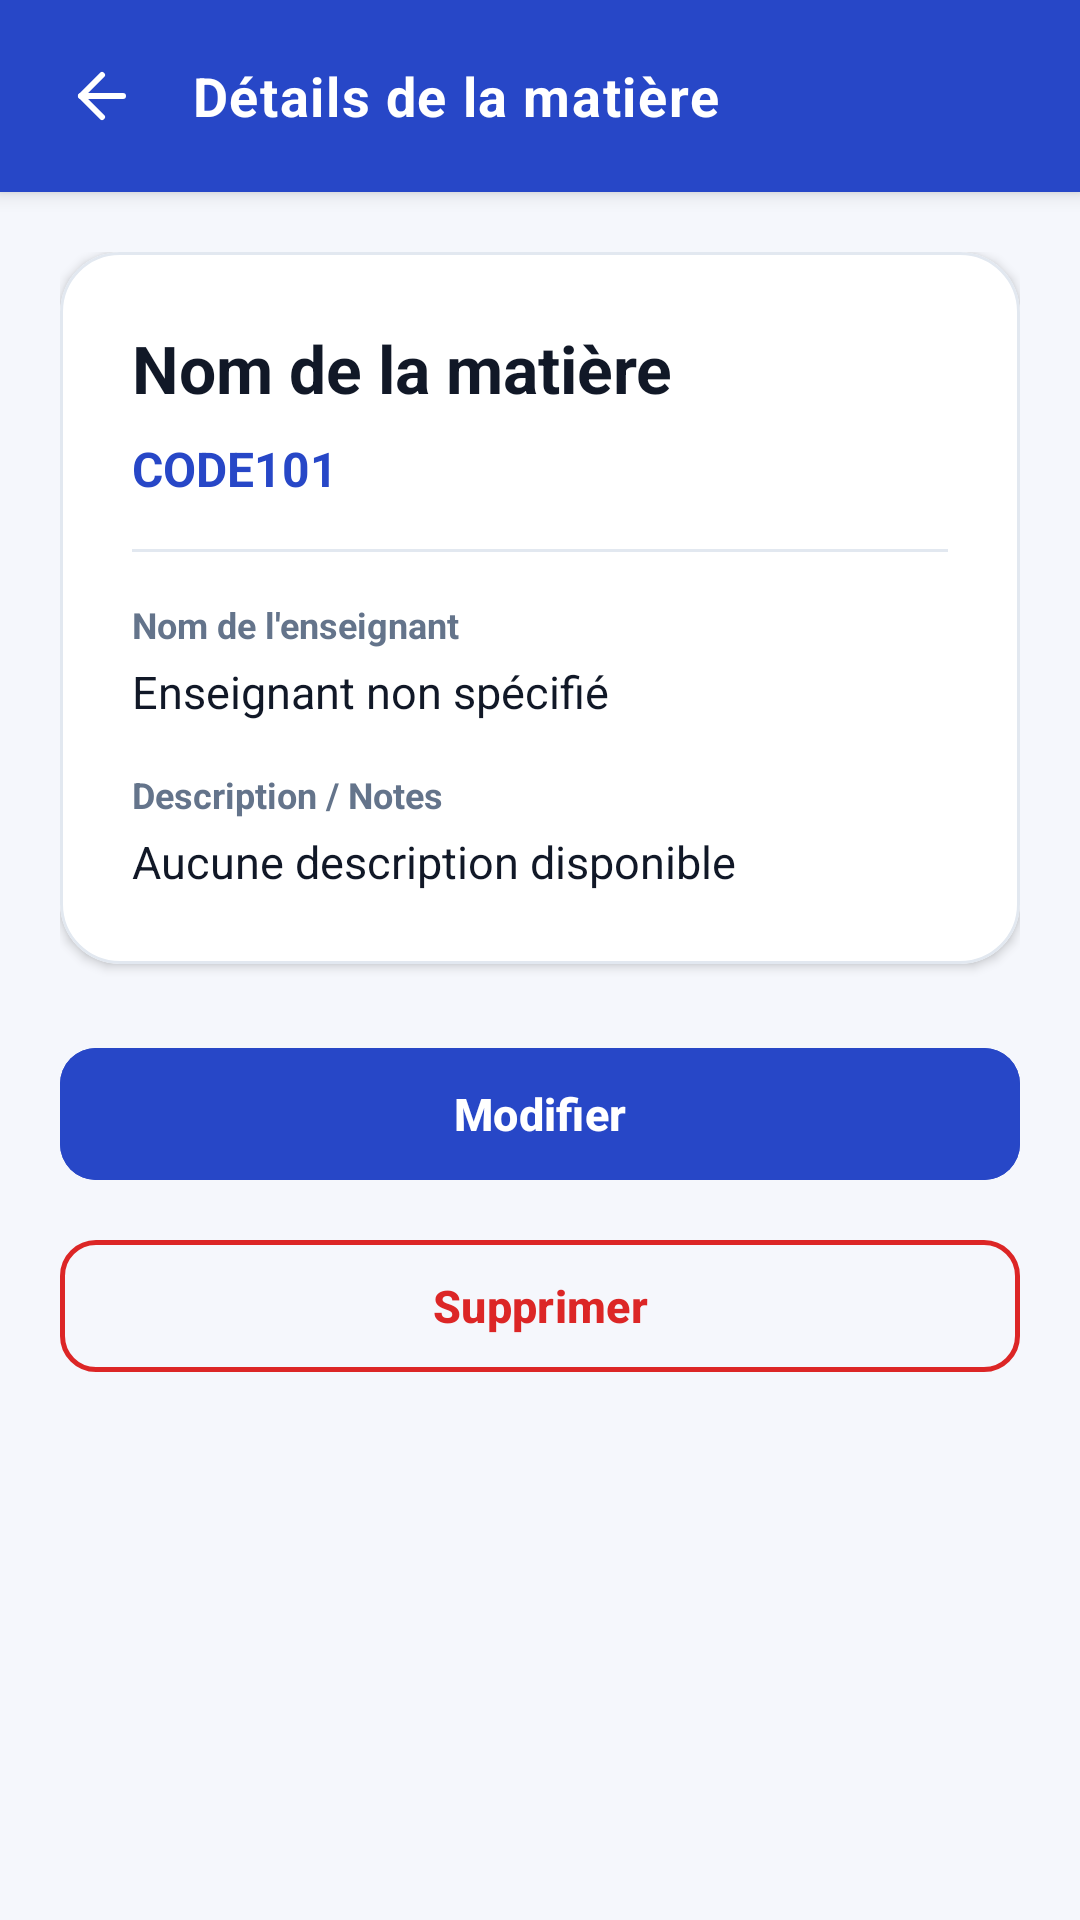

Screen size 1080 × 1920. Icon name, then its box in pixels as (left=x1, top=y1, right=x2, bottom=y2):
Bouton retour: (left=78, top=72, right=126, bottom=120)
